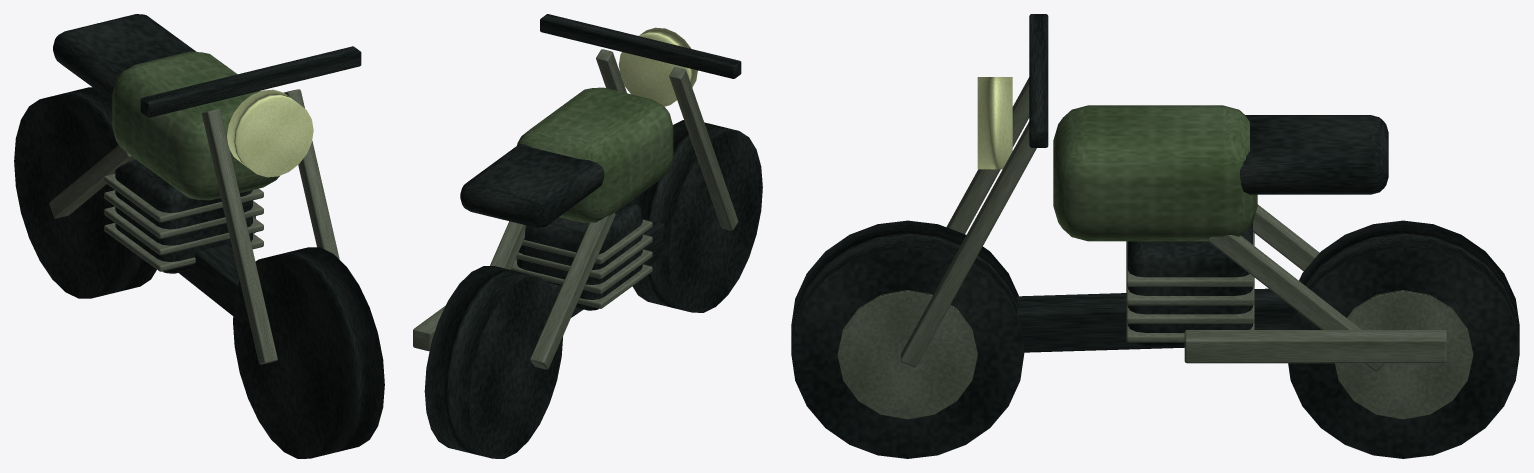
The model's file is motorcycle.glb.
The picture shows the model from 3 angles, left to right: view 1: azimuth 30°, elevation 25°; view 2: azimuth 150°, elevation 25°; view 3: azimuth 270°, elevation 25°; orthographic projection. The views are drawn at different scales.
Parts seen in each view (by area): view 1: Rubber tire, Rubber tire.001, Fuel tank, Saddle, Headlamp, Engine, Front fork, Handlebar, Chassis, Front fork.001, Rear suspension, Cooling fin.001 (+3 smaller); view 2: Rubber tire.001, Rubber tire, Fuel tank, Saddle, Engine, Handlebar, Rear suspension, Front fork, Headlamp, Rear suspension.001, Cooling fin.001, Cooling fin.002 (+5 smaller); view 3: Rubber tire, Rubber tire.001, Fuel tank, Wheel rim, Saddle, Wheel rim.001, Exhaust, Chassis, Engine, Front fork.001, Rear suspension.001, Headlamp (+6 smaller).
Boxes of the visible parts, x1,y1,x2,y2 form: Rubber tire: (233,247,384,458); Rubber tire.001: (14,87,156,298); Fuel tank: (112,51,279,200); Saddle: (53,14,196,101); Headlamp: (227,89,313,177); Engine: (115,159,252,273); Front fork: (202,109,277,364); Handlebar: (140,46,361,117); Chassis: (178,244,239,315); Front fork.001: (284,89,339,259); Rear suspension: (49,145,135,218); Cooling fin.001: (104,206,263,255); Rubber tire.001: (424,266,562,458); Rubber tire: (631,120,762,312); Fuel tank: (517,87,673,223); Saddle: (460,144,604,227); Engine: (517,201,642,310); Handlebar: (540,14,741,78); Rear suspension: (530,212,615,369); Front fork: (669,67,738,230); Headlamp: (619,27,697,106); Rear suspension.001: (490,221,525,269); Cooling fin.001: (511,249,652,293); Cooling fin.002: (516,234,652,278); Rubber tire: (791,220,1024,458); Rubber tire.001: (1288,220,1519,458); Fuel tank: (1053,105,1257,241); Wheel rim: (837,290,977,419); Saddle: (1240,115,1388,194); Wheel rim.001: (1335,290,1473,419); Exhaust: (1184,330,1446,363); Chassis: (1017,288,1295,352); Engine: (1127,223,1252,346); Front fork.001: (900,121,1036,367); Rear suspension.001: (1208,235,1384,371); Headlamp: (977,77,1012,169).
Size of the model in its own units: 0.96 by 1.41 by 2.5.
Materials: 4 (4 with a texture image).
